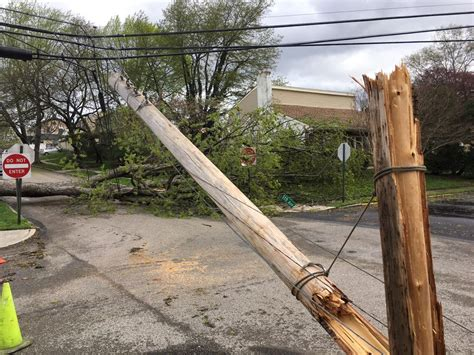pole: (97, 57, 365, 355), (354, 62, 467, 355)
